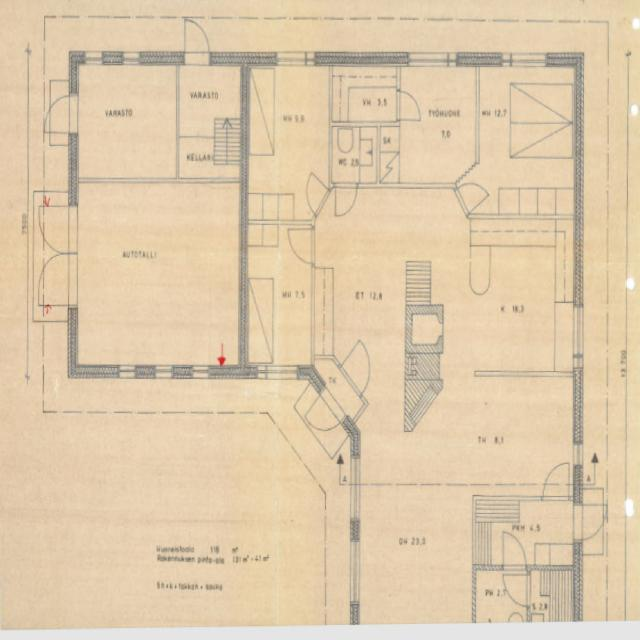door: (38, 246, 78, 310), (39, 197, 78, 256), (500, 526, 529, 602), (44, 88, 80, 139), (573, 494, 608, 544), (454, 176, 492, 218), (540, 456, 574, 502), (285, 221, 317, 267), (181, 16, 211, 64), (394, 85, 424, 124), (331, 180, 360, 220), (504, 570, 530, 608)
window: (347, 534, 364, 609), (346, 456, 364, 526), (569, 299, 587, 364), (255, 361, 302, 384), (407, 52, 451, 69), (190, 361, 223, 383), (505, 52, 547, 69), (274, 51, 314, 68), (151, 362, 176, 383), (115, 363, 140, 382), (84, 49, 104, 66), (121, 50, 142, 66)
zone: (73, 179, 244, 375), (458, 214, 578, 378), (412, 375, 580, 491), (356, 484, 476, 623), (476, 62, 576, 218), (245, 60, 332, 218), (75, 59, 179, 181), (246, 219, 314, 374), (398, 62, 479, 187), (177, 60, 245, 182), (330, 64, 400, 126), (330, 124, 380, 186), (528, 566, 577, 622), (474, 566, 509, 622), (576, 493, 607, 545), (284, 222, 318, 268)
